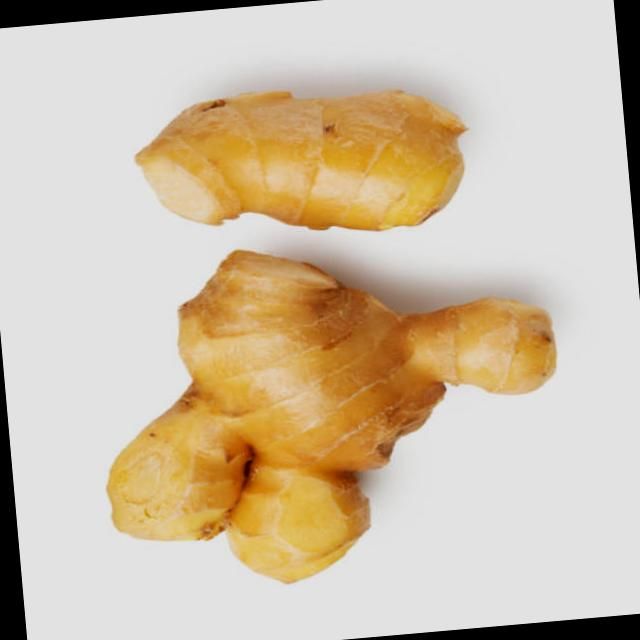ginger-root: (61, 212, 584, 608)
